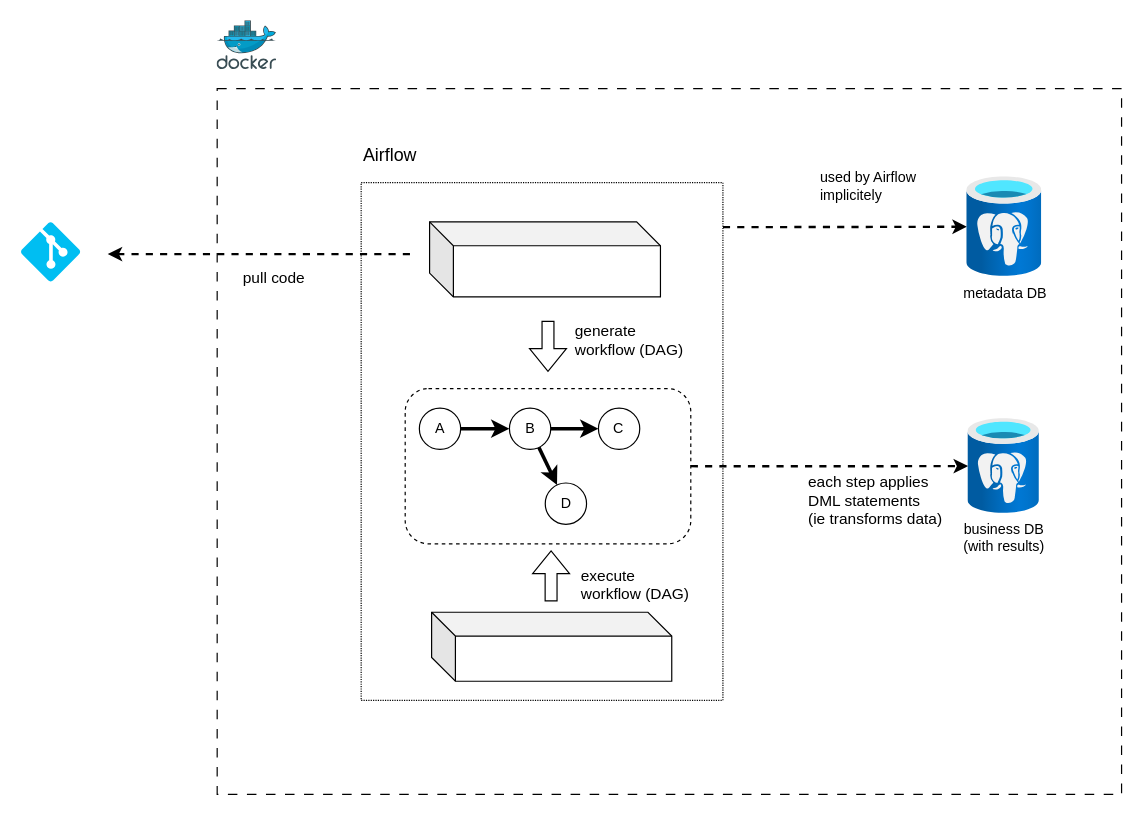
Some shapes in this 1142 by 815 pixel diagram are drawn without their labels. The shapes that lost their labels are listed below. From the top down, each one's box as (x1, y1, x2, y2) in pixels, then its label:
(20, 221, 80, 281): Pipeline code repository
(428, 221, 660, 297): python libraries: Cosmos
(430, 611, 672, 681): Airflow runtime, Dbt
